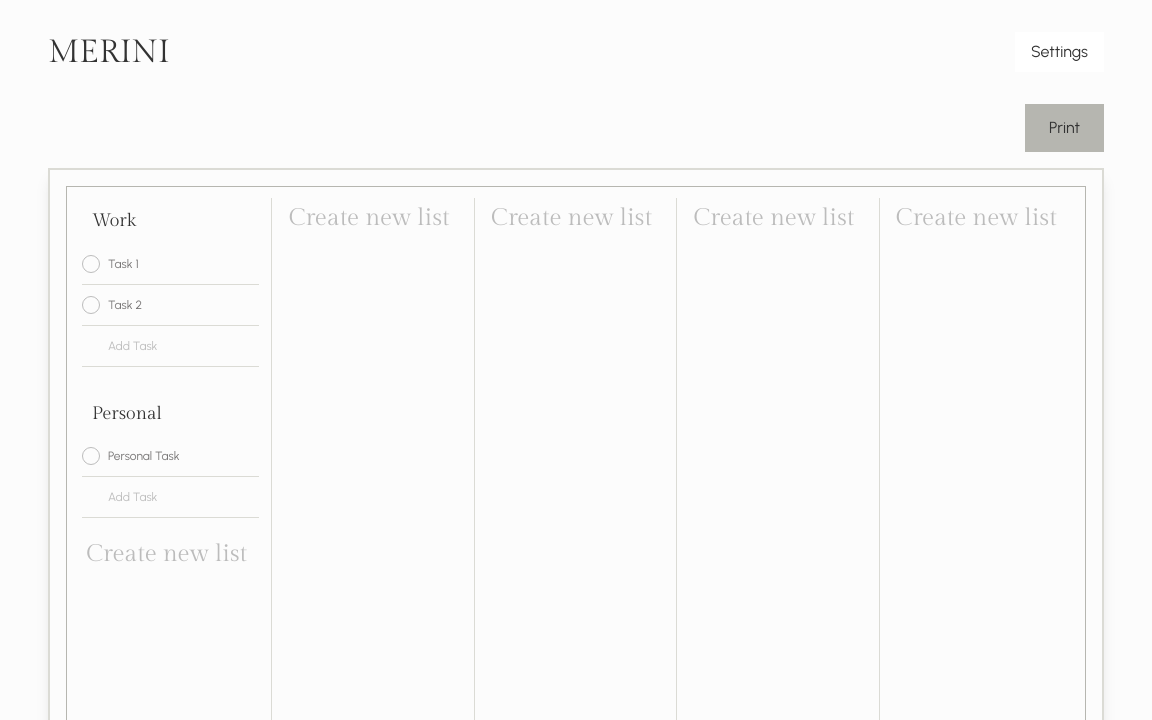
Test: App - Header and Settings Flyout › closes settings flyout when X button is clicked
// Open flyout
What coordinates should you click on to do the following:
click the button "Settings"
I would click on:
 (1059, 52)
Its box is [1015, 32, 1104, 72].
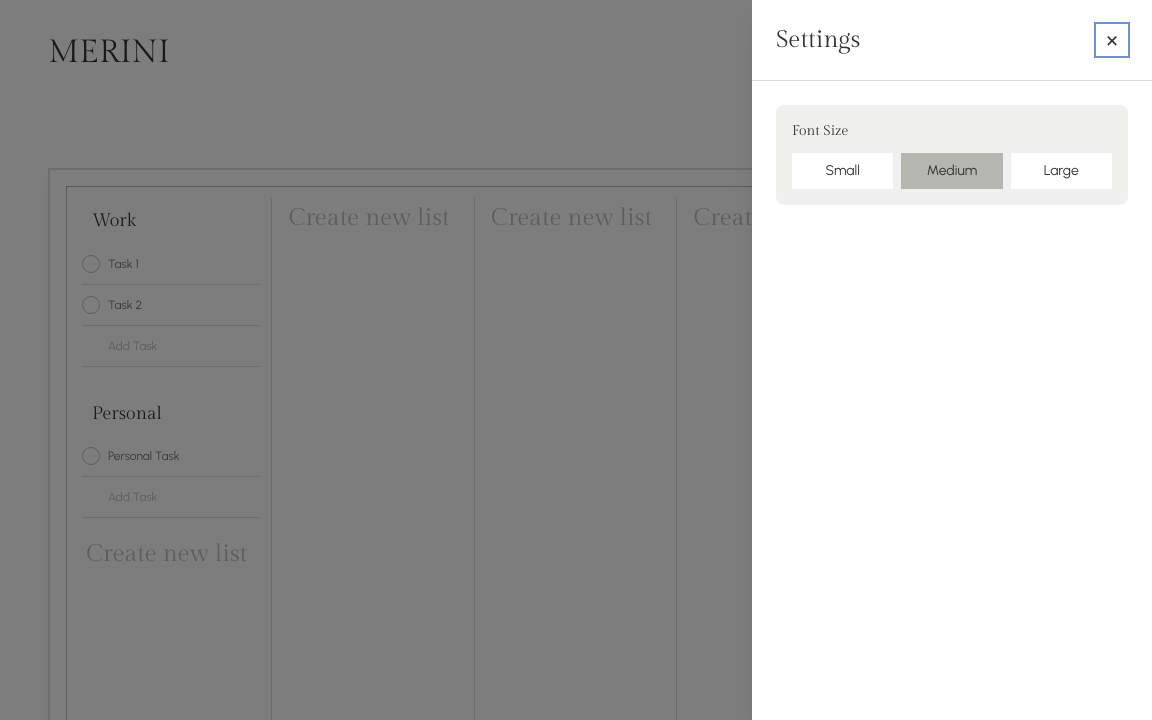
Now the dialog is shown
// Click close button
What coordinates should you click on to do the following:
click the button named "close settings"
I would click on:
 (1112, 40)
Its box is [1096, 24, 1128, 56].
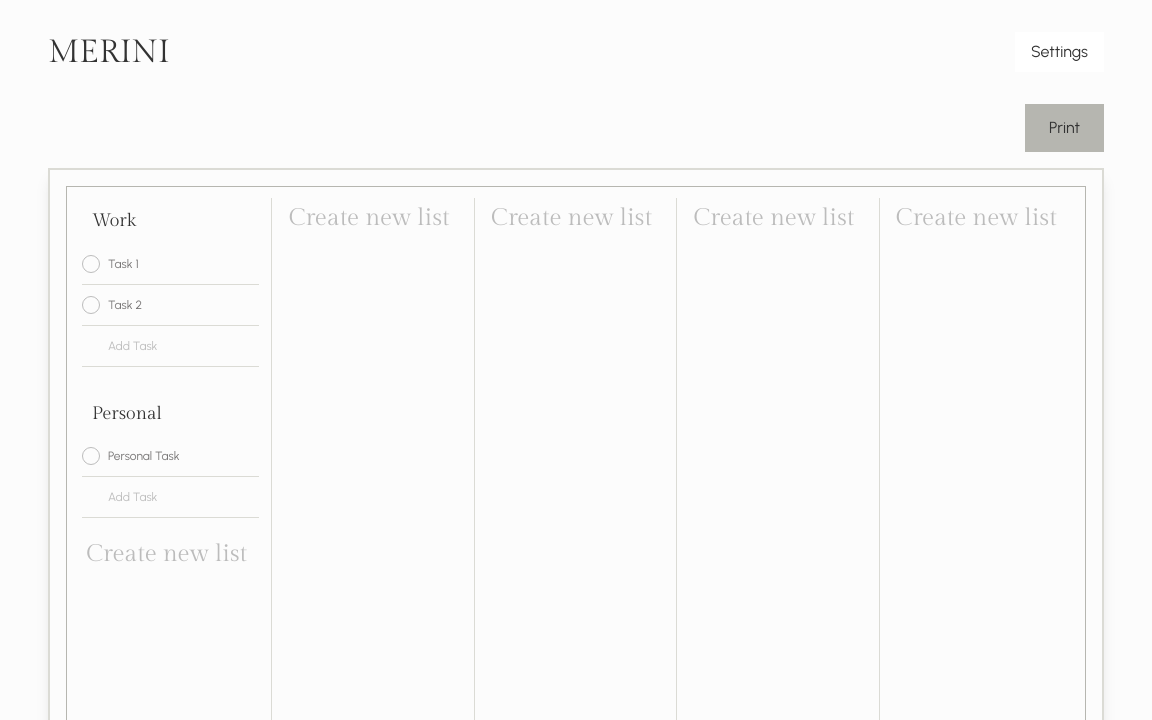
Now the dialog is gone
